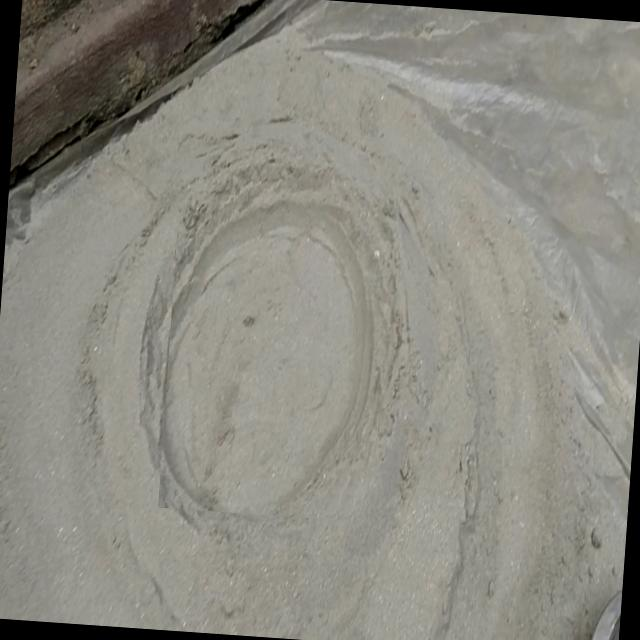C40: (163, 201, 369, 513)
